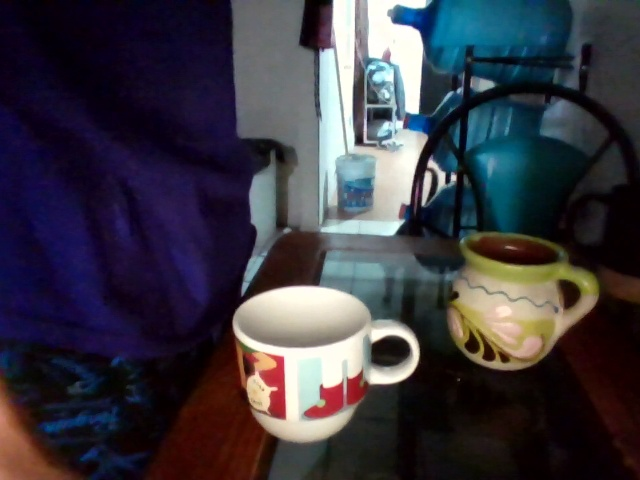taza: (232, 284, 421, 444), (443, 231, 601, 372)
